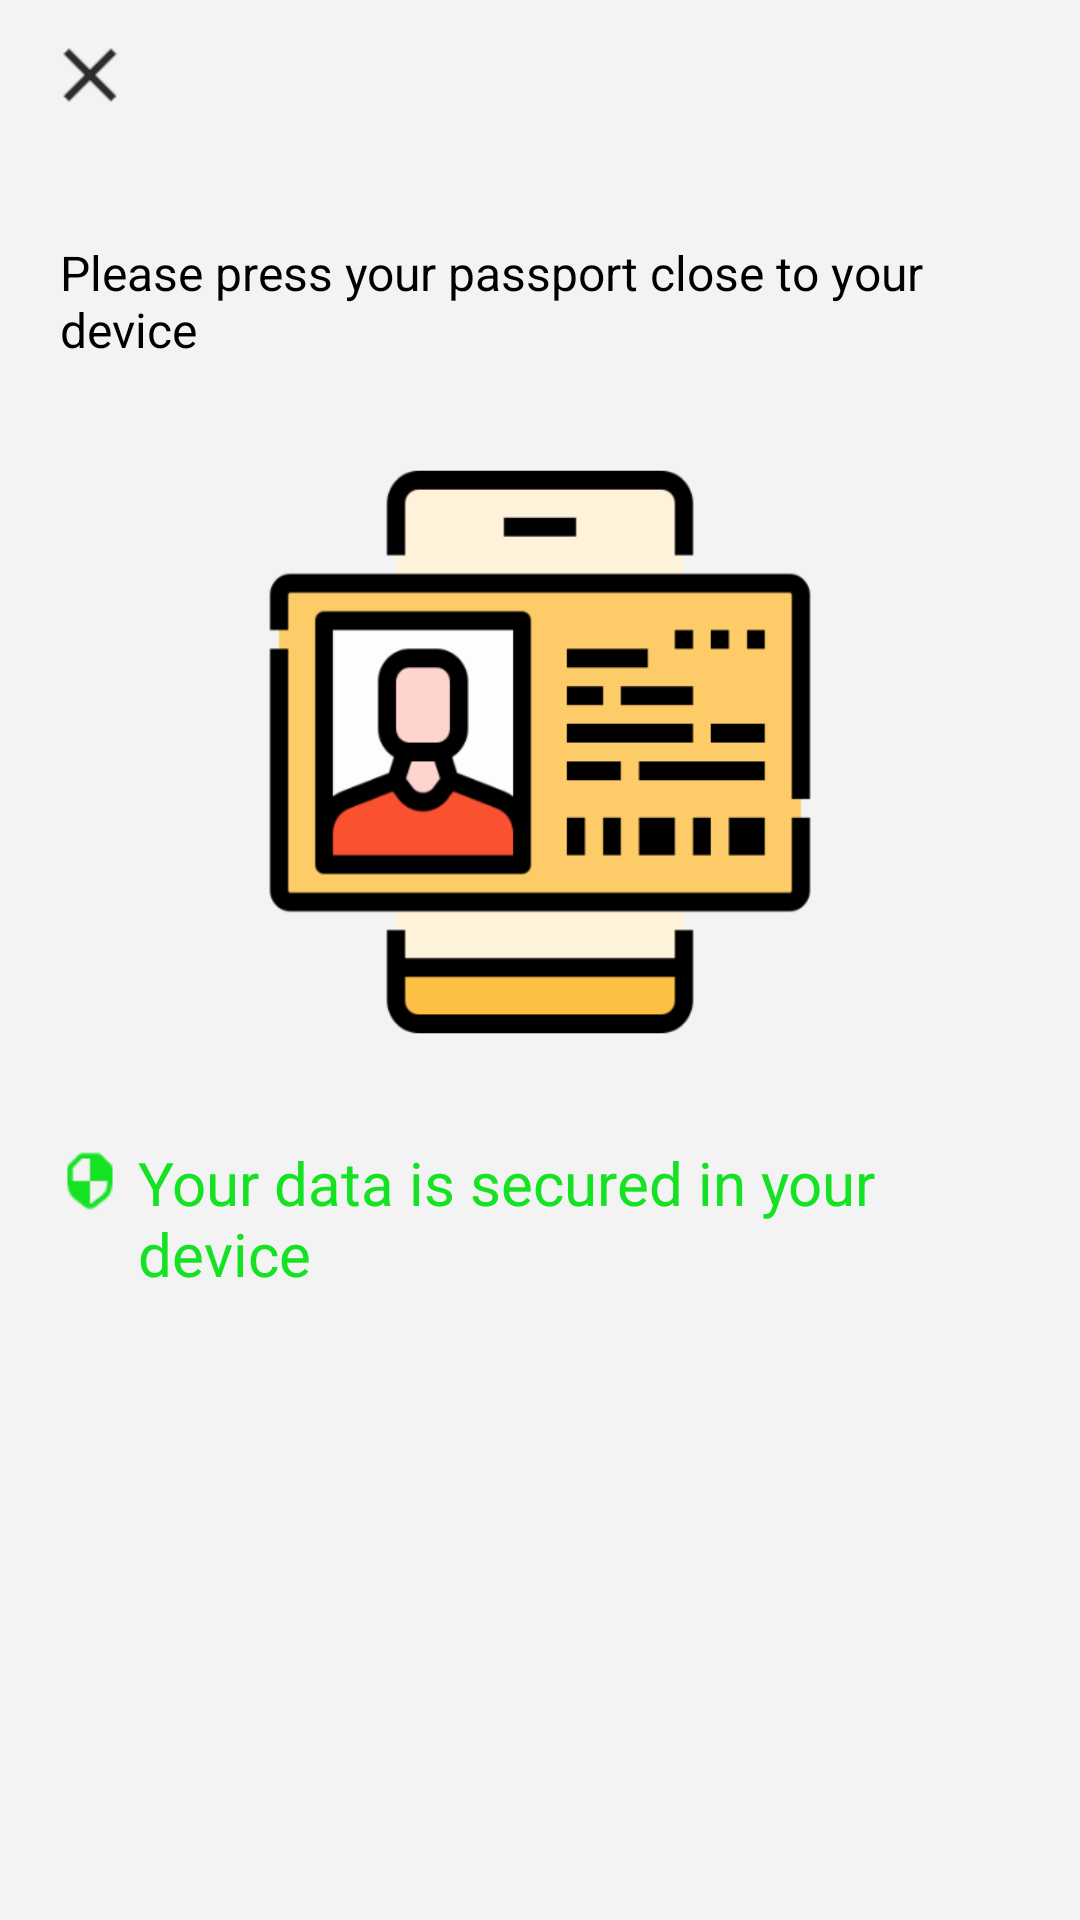

Where icons sit on this 1080px×1920px app screen, as bbox(x1, y1, x2, y2):
security: bbox(67, 1152, 113, 1210)
